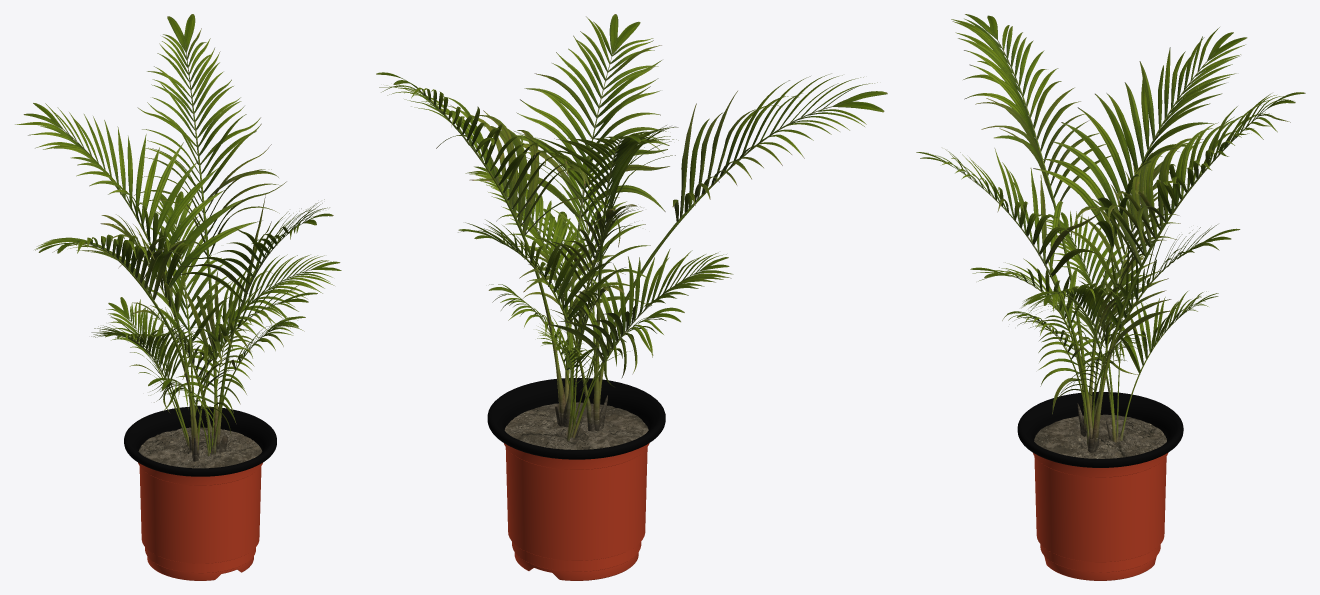
The model's file is MEGA_PACK_Plant__plant-352597.glb.
3 renders of one model, left to right at view 1: azimuth 30°, elevation 25°; view 2: azimuth 150°, elevation 25°; view 3: azimuth 270°, elevation 25°, orthographic. The views are drawn at different scales.
Visible parts, largest first — view 1: plant-352597; view 2: plant-352597; view 3: plant-352597.
Boxes of the visible parts, x1,y1,x2,y2 form: plant-352597: (15, 14, 341, 580); plant-352597: (376, 14, 887, 580); plant-352597: (916, 14, 1305, 580).
Size of the model in its own units: 0.2537 by 0.3359 by 0.2385.
2 materials, 2 textured.
